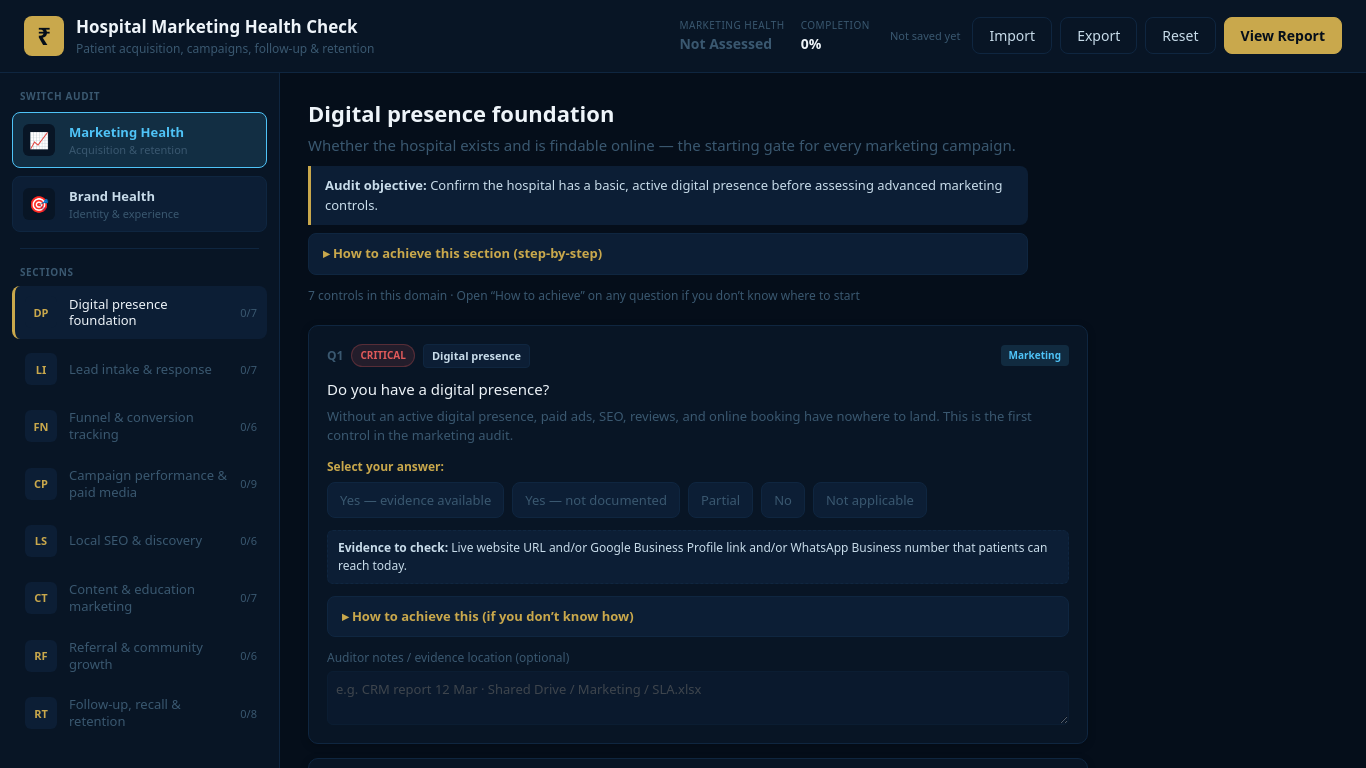
Test: selecting an answer updates section completion
The width and height of the screenshot is (1366, 768).
Click the button "No": x=783, y=500 [761,482,805,518]
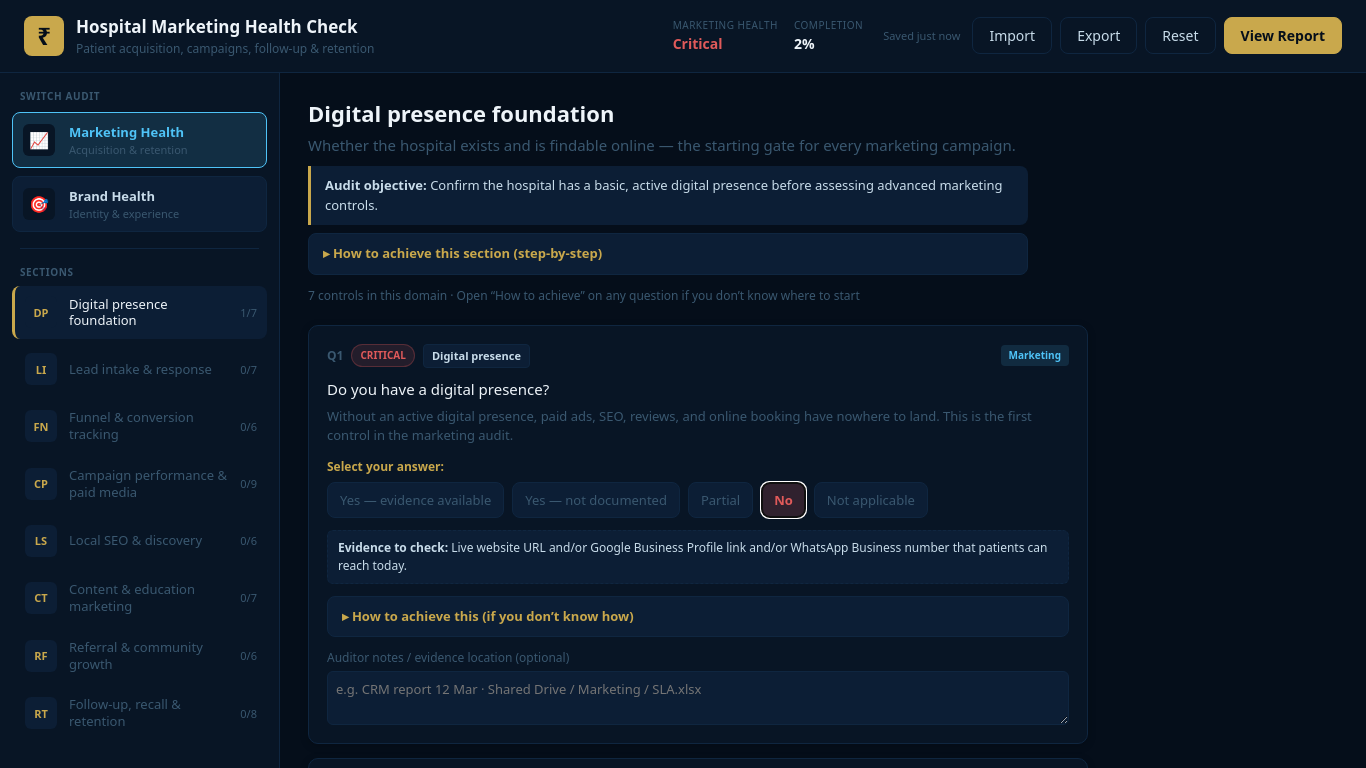
Check: the text "1/7" is shown, box [240,305,257,320]
